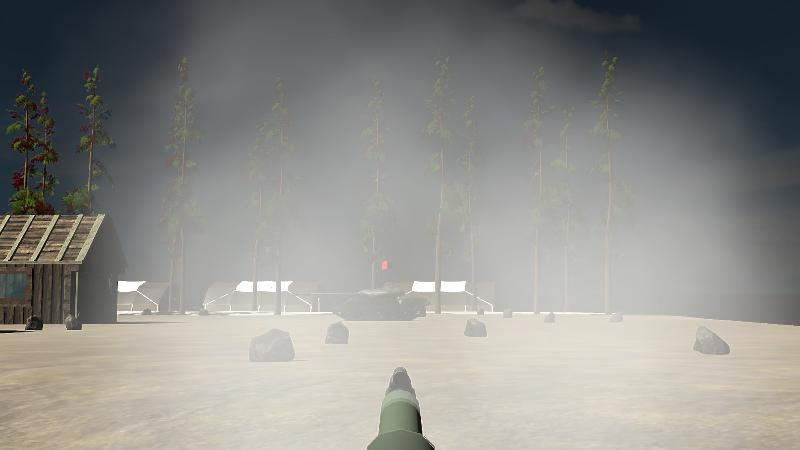House: (0, 212, 122, 322)
